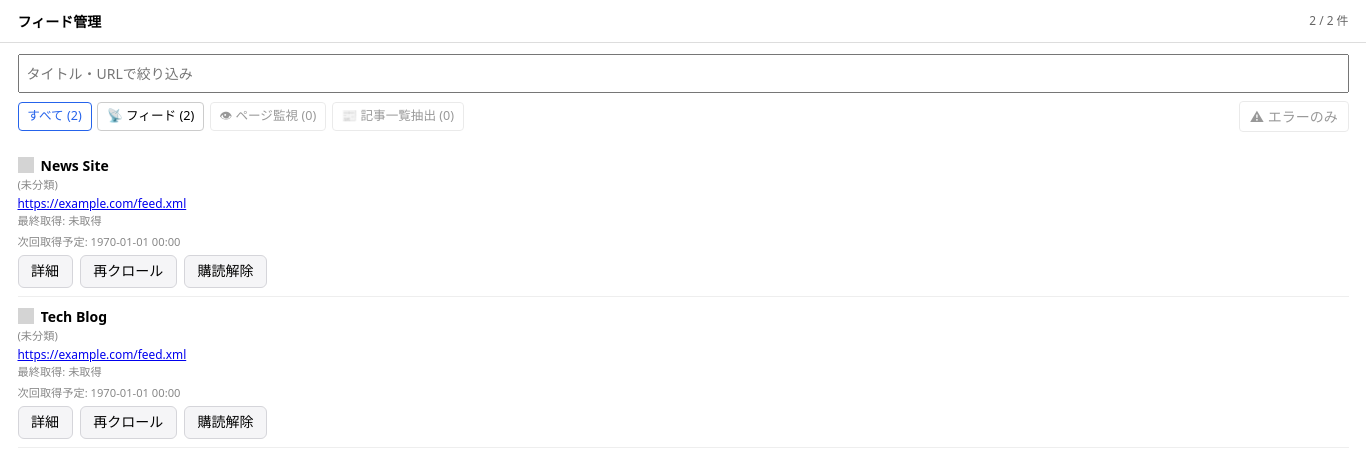
Test: FeedManagerPane basic search filter › filters by title, case-insensitively
Type "tech" into the field with placeholder "タイトル・URLで絞り込み" at point(683, 73), box [18,54,1348,92]
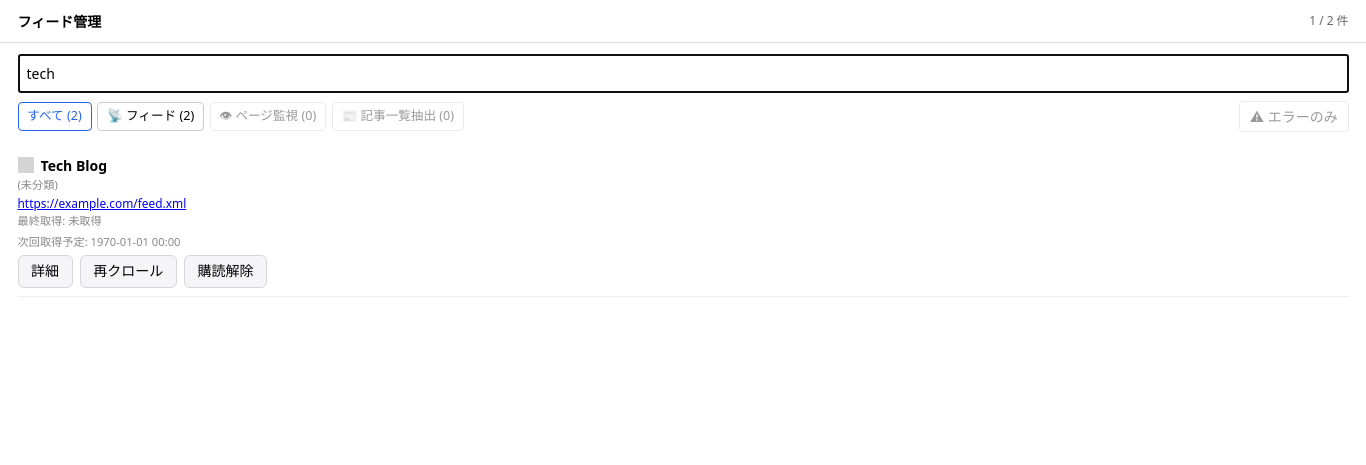
Expected: the text "Tech Blog" is shown, [40,156,107,175]
Now the number of list items is 1, box [18,146,1348,297]
